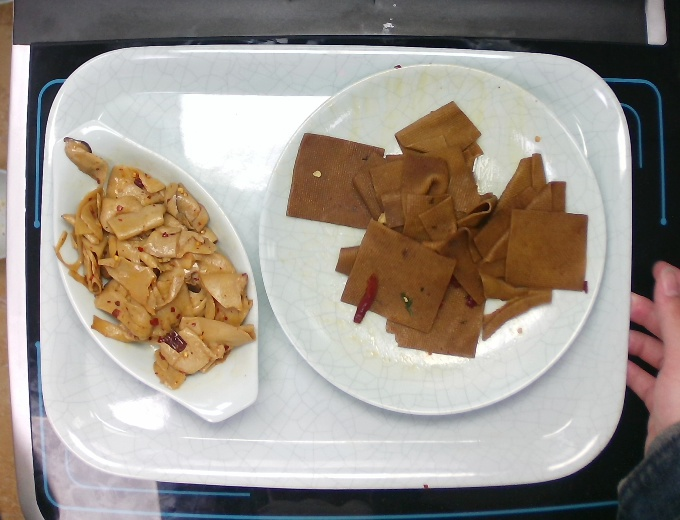JYsf-Da_Yuan_Pan: (256, 60, 610, 418)
JYsf-Yu_Pan: (47, 116, 264, 425)
